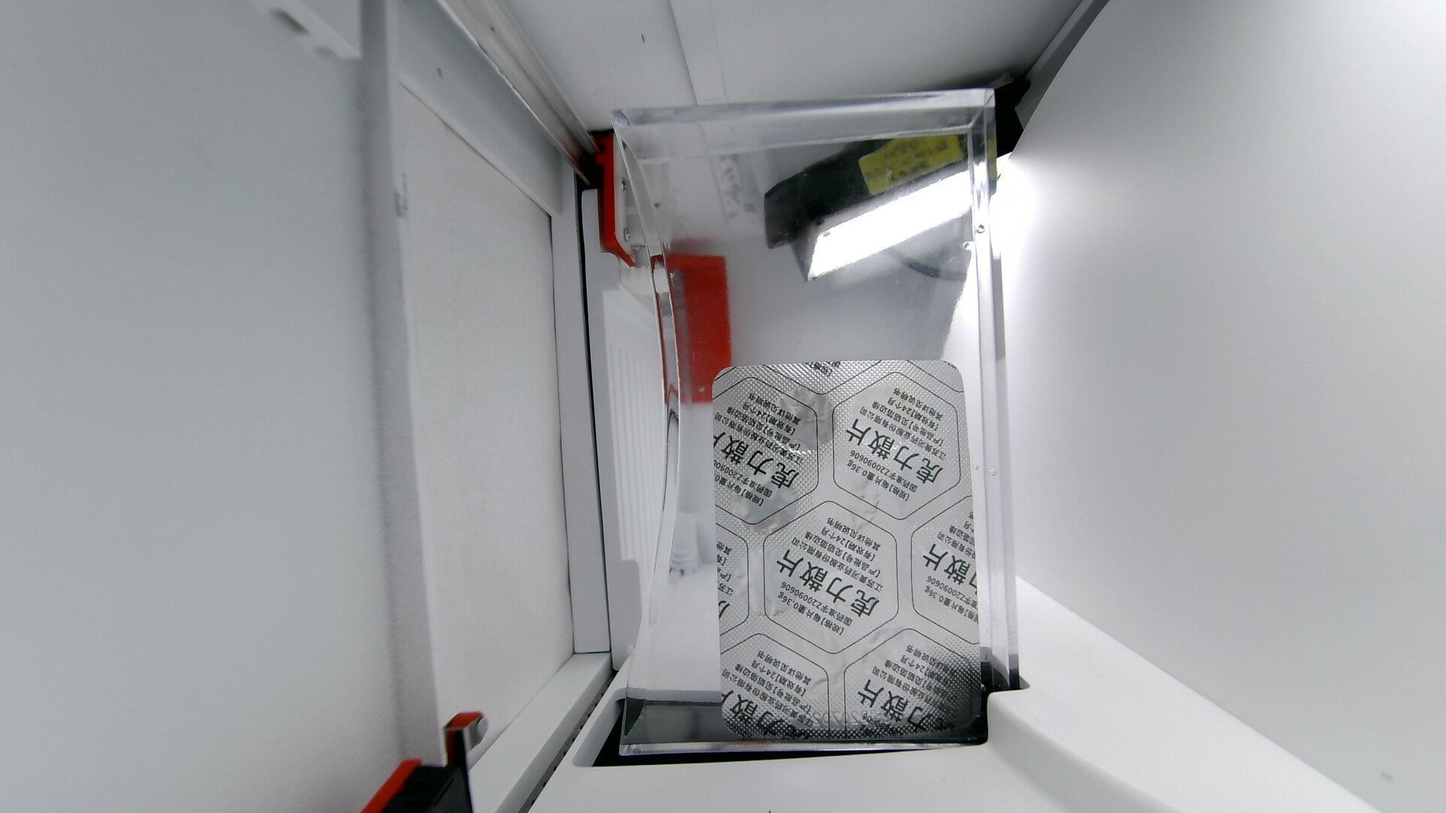Pill Back: (752, 381, 849, 455), (856, 386, 935, 454), (728, 470, 802, 539), (896, 545, 969, 614), (728, 556, 804, 620), (816, 550, 884, 619), (864, 630, 937, 694), (888, 467, 953, 533), (813, 469, 880, 533), (753, 643, 830, 696)
